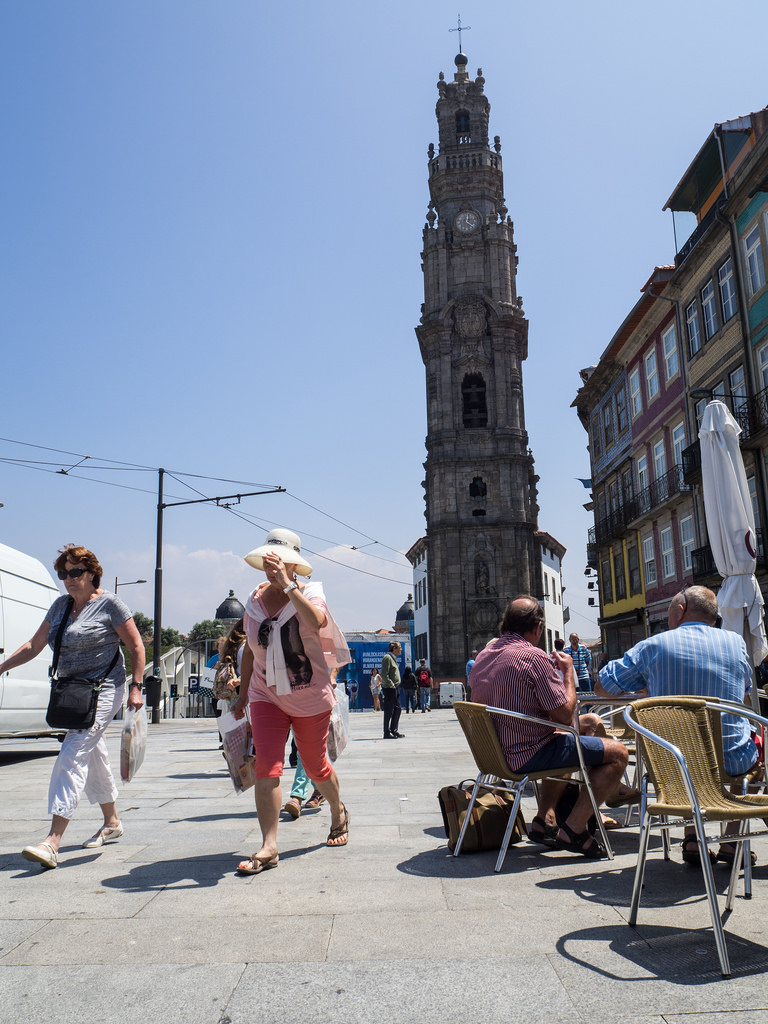clerigos: (412, 0, 541, 674)
